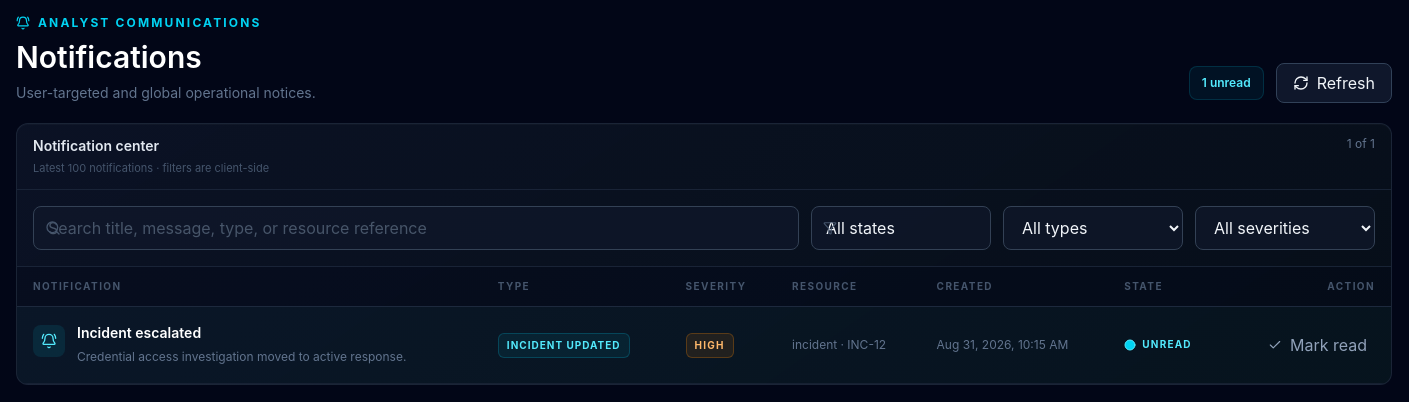
NotificationsPage › marks one notification as read with the supported endpoint
This screenshot has width=1409, height=402.
Step 1. Click the button "Mark read" → click(1318, 344), box [1260, 328, 1375, 360]
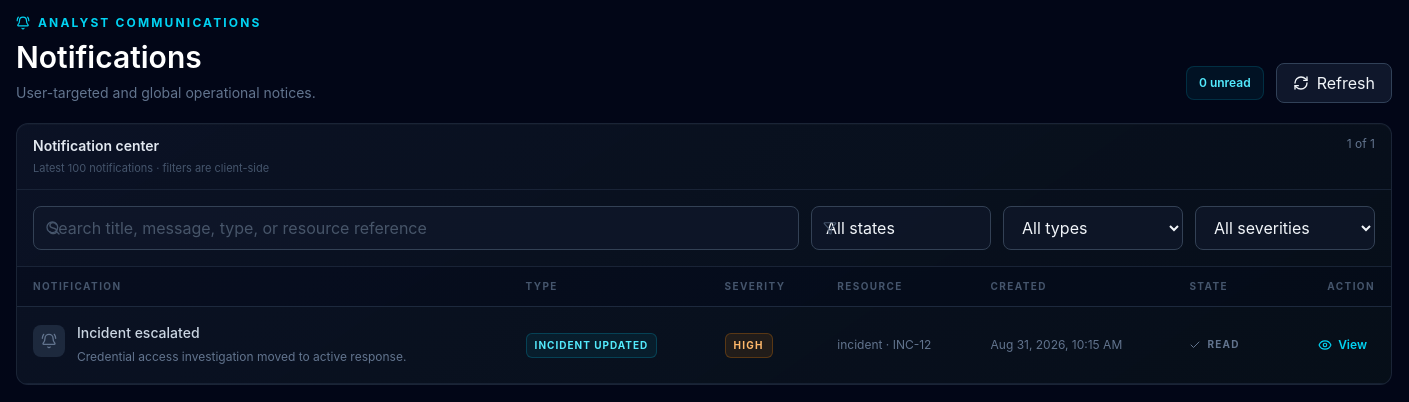
Result: the text "0 unread" is shown at [1186, 66, 1264, 100]
